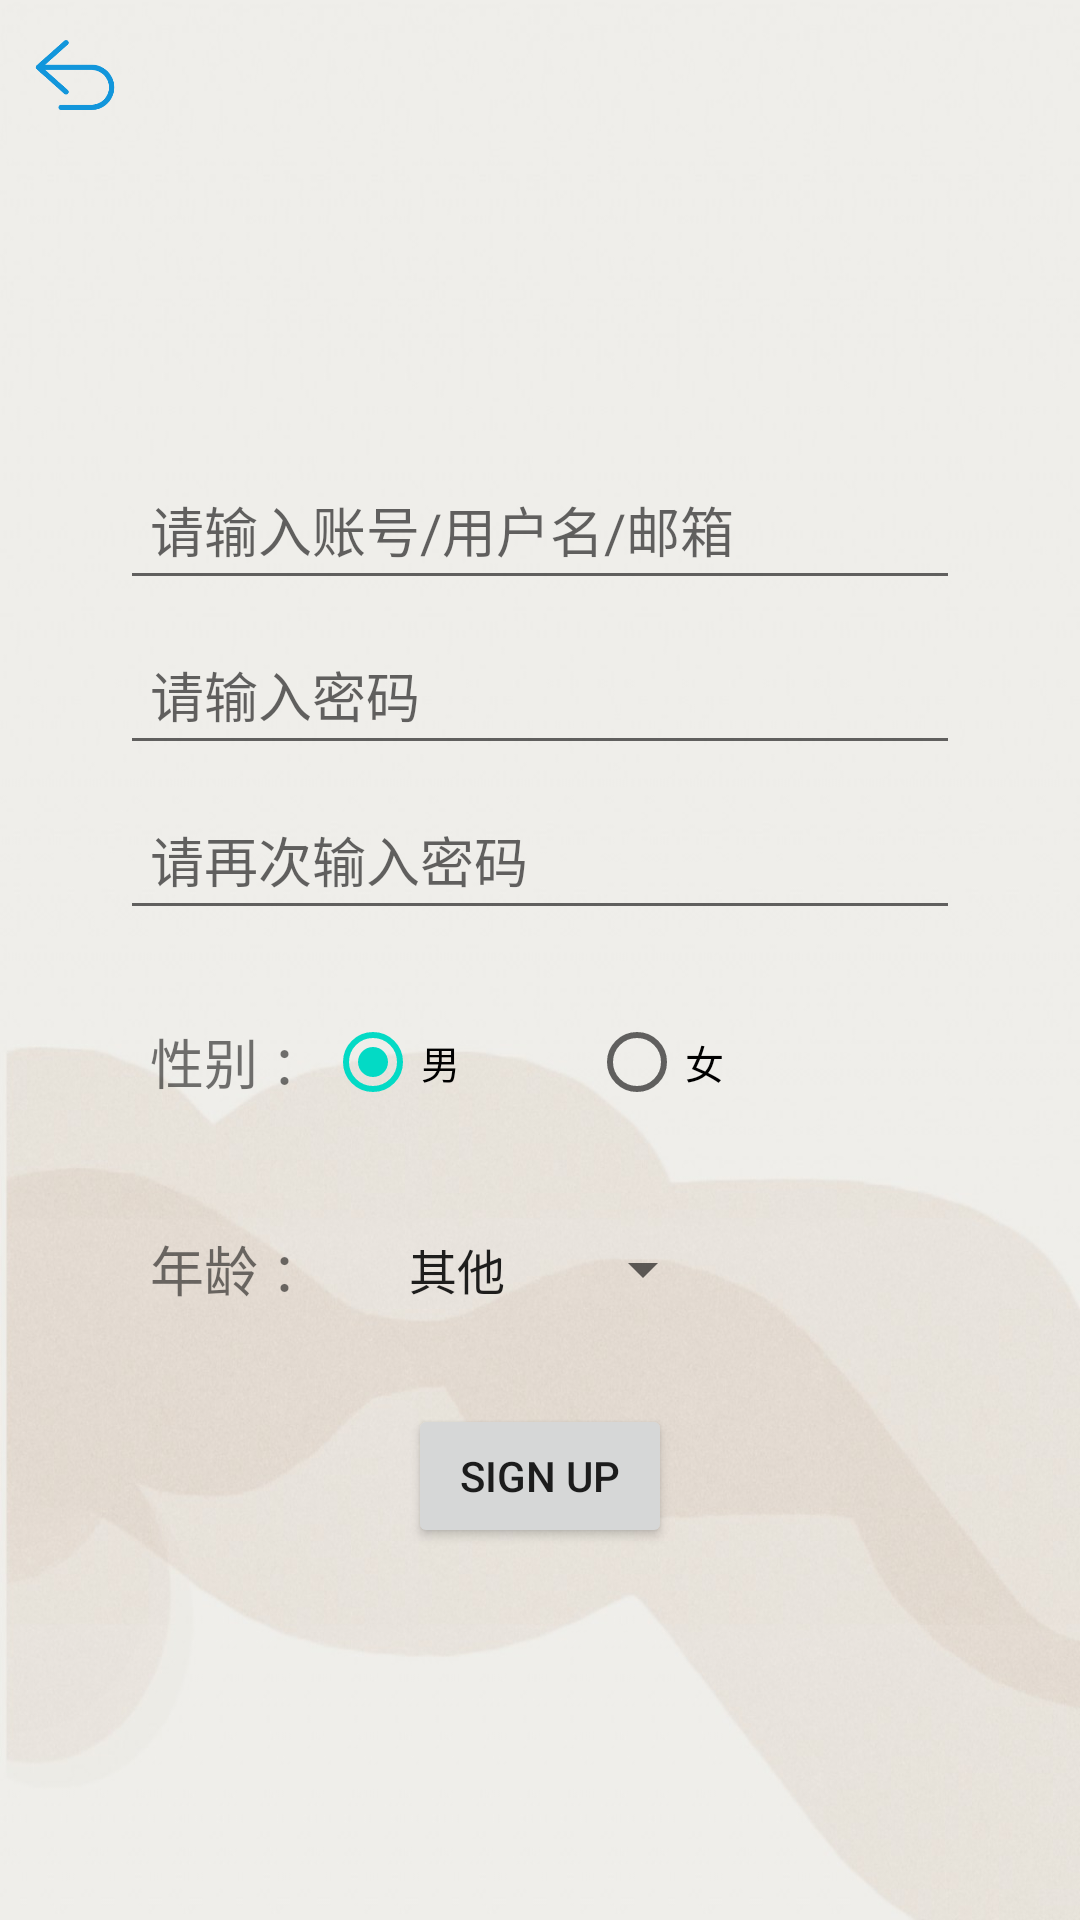

Icon bounding boxes for this 1080 × 1920 phone screenshot, format (x1, y1, x2, y2):
register exit: (35, 40, 115, 110)
